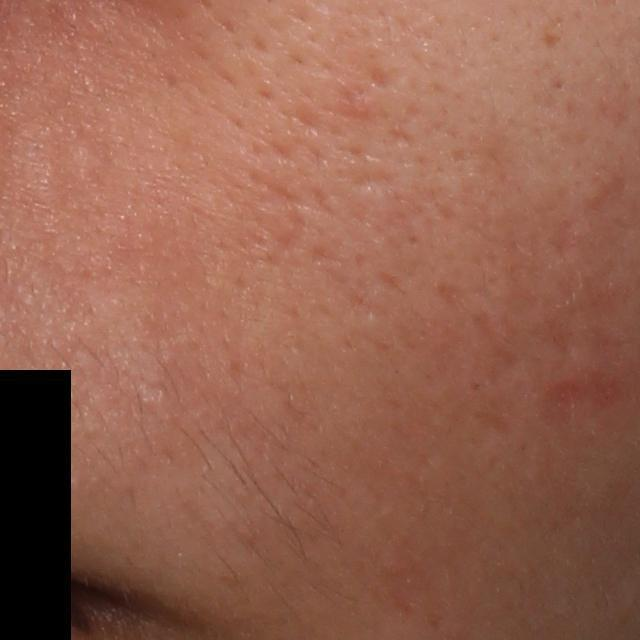atrophic_scar: (343, 169, 403, 194), (371, 63, 398, 95), (540, 25, 564, 52)
